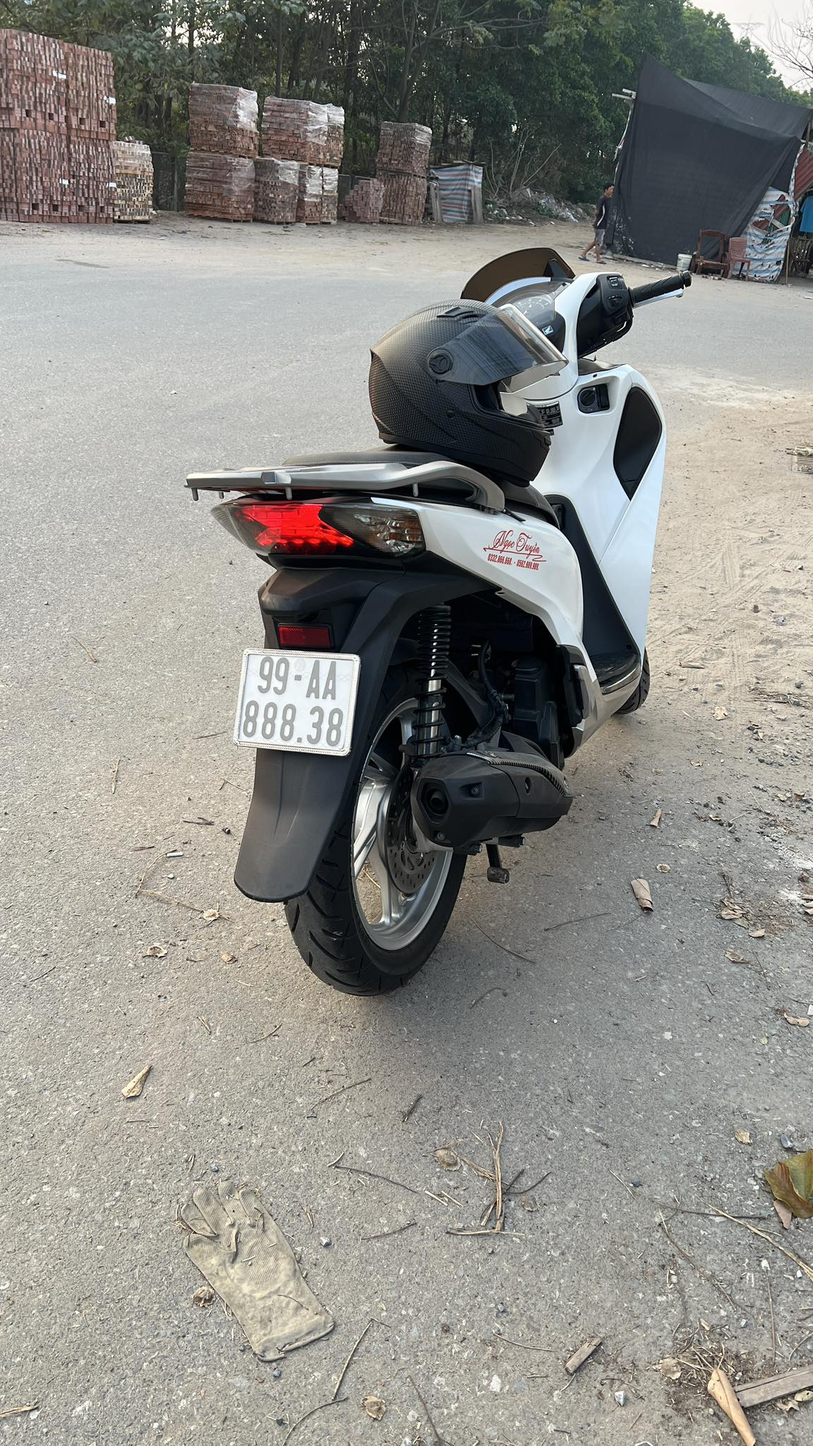bien_so: (225, 638, 371, 764)
